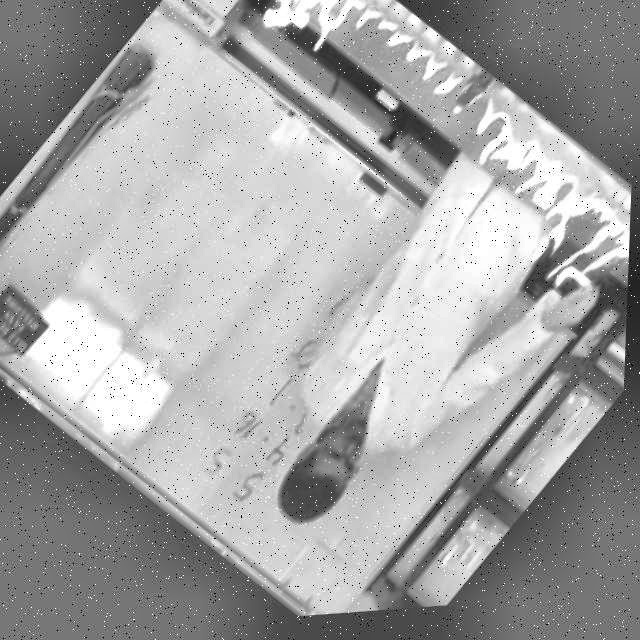Fire: (418, 93, 636, 346), (334, 0, 472, 132), (226, 0, 367, 80)
